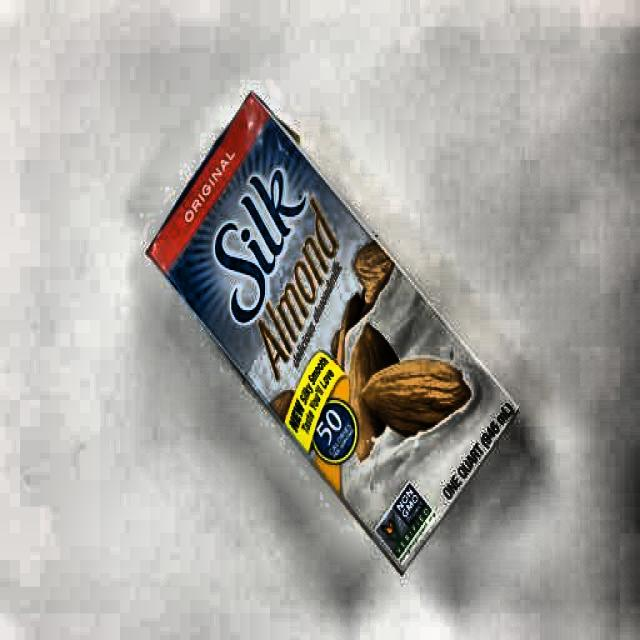paper: (132, 76, 524, 584)
